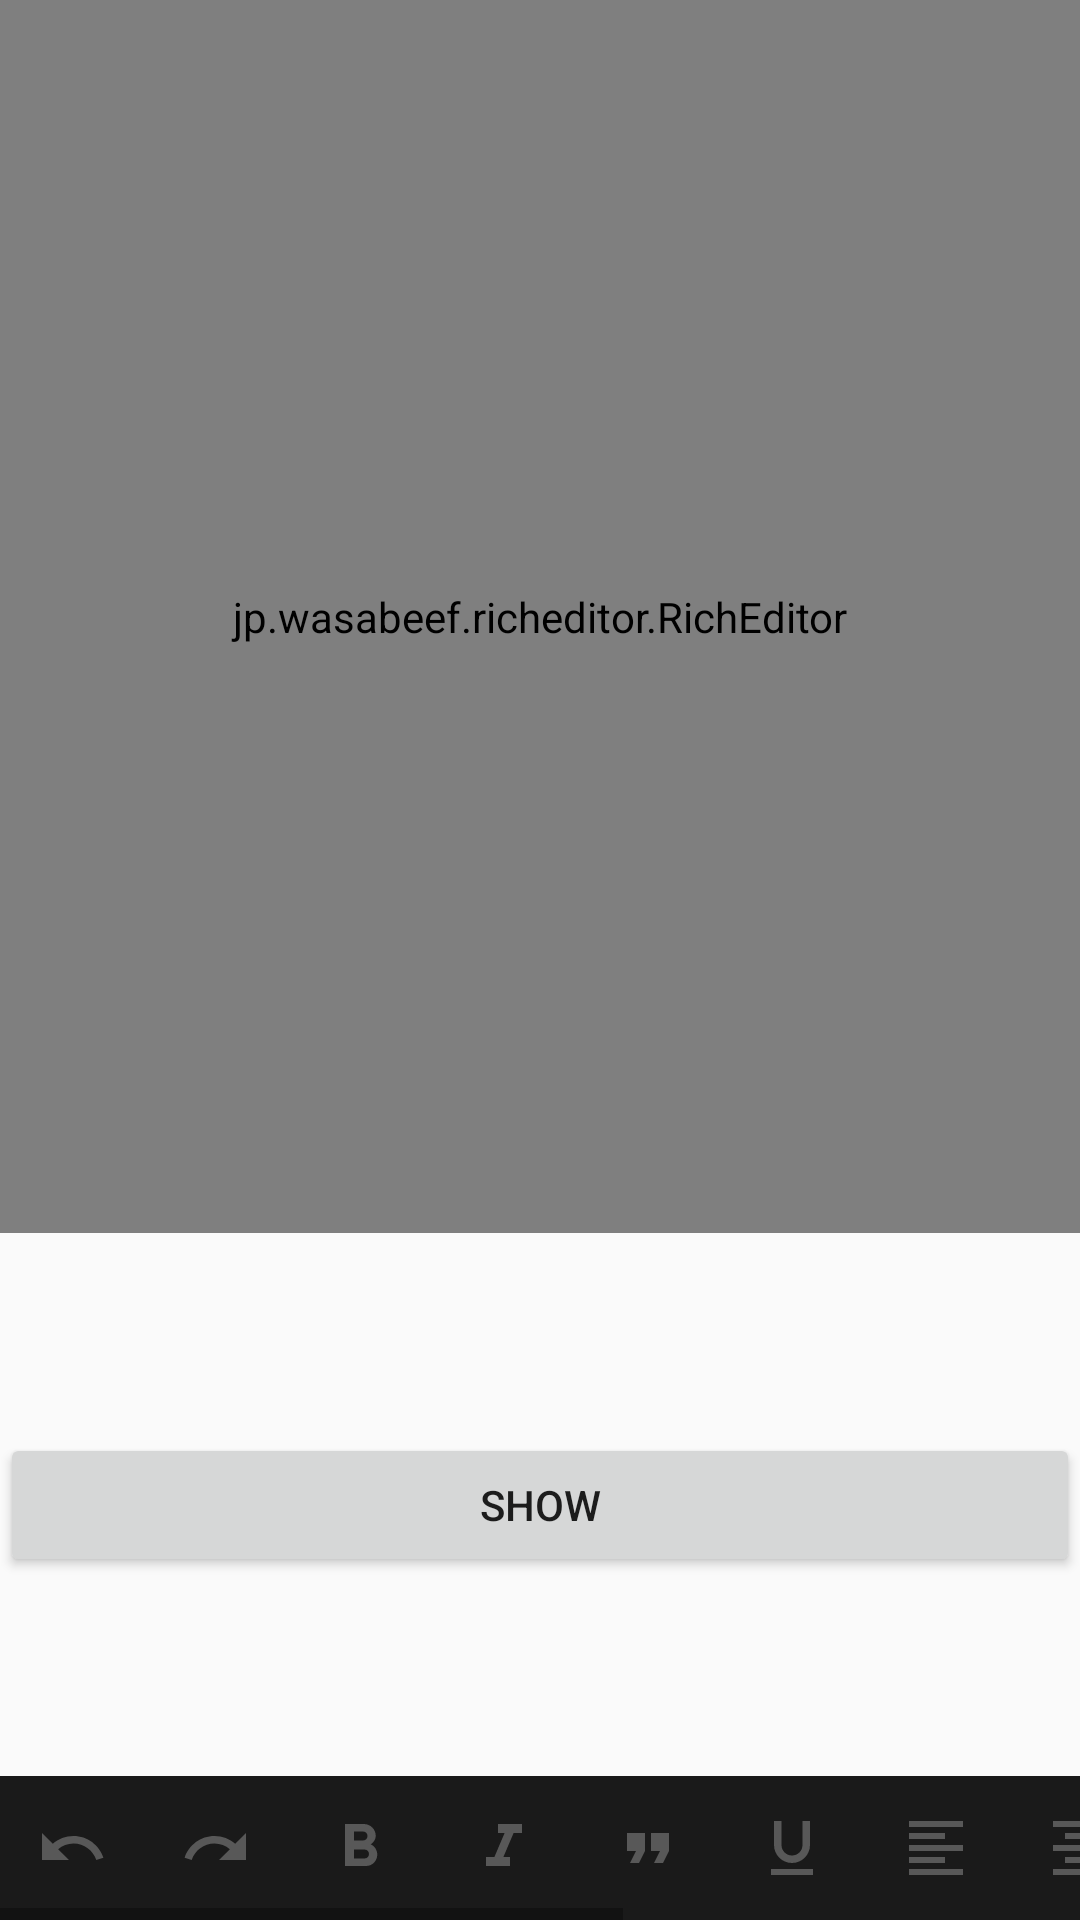

Where icons sit on this 1080×1920 app screen, as (x1, y1, x2, y2):
blockquote: (627, 1833, 669, 1863)
italic: (486, 1824, 522, 1866)
justify left: (909, 1821, 963, 1875)
redo: (185, 1833, 246, 1860)
underline: (771, 1821, 813, 1875)
undo: (42, 1833, 103, 1860)
